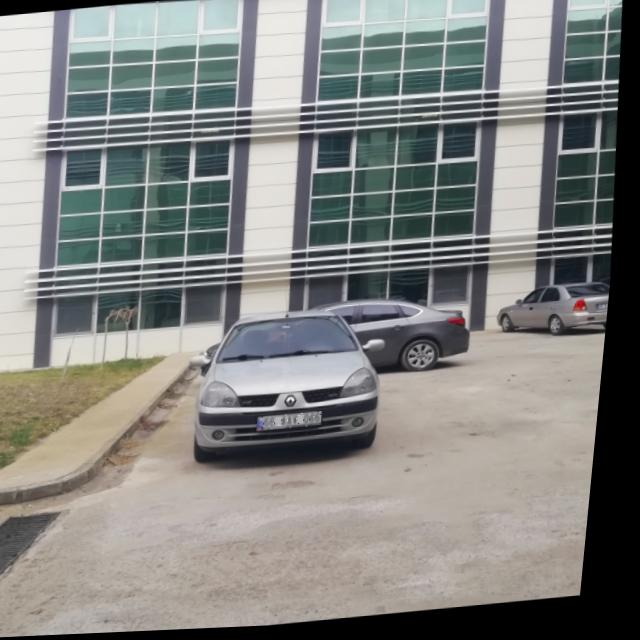license_plate: (265, 414, 331, 434)
